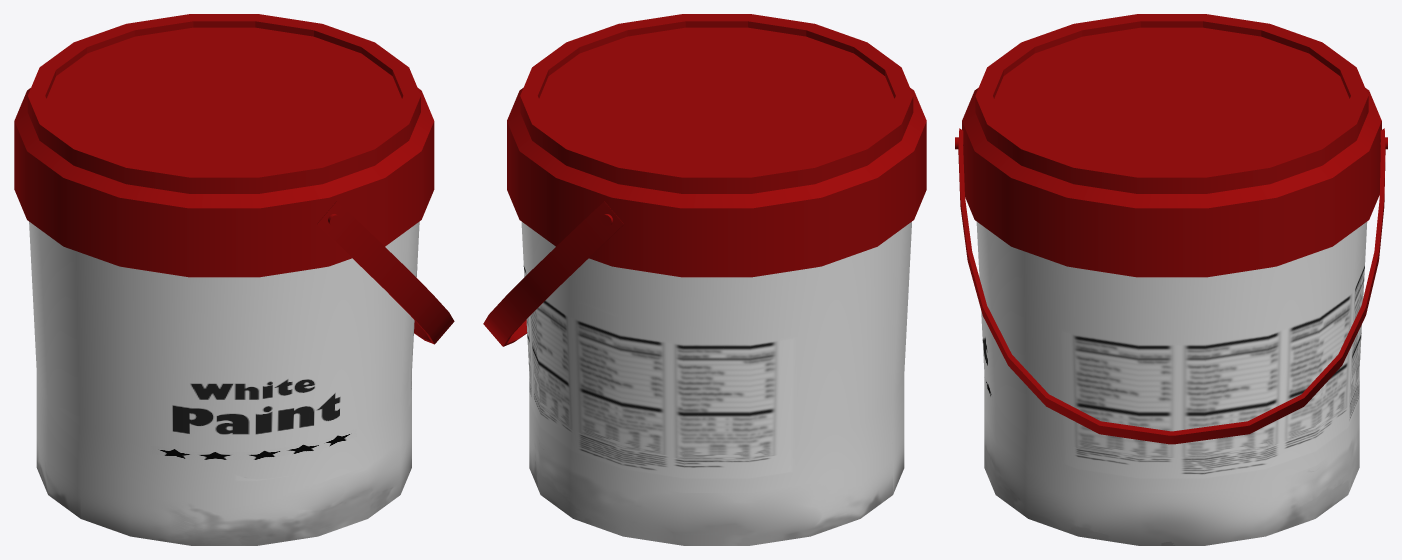
Rendered from Container 1.FBX.
The picture shows the model from 3 angles, left to right: view 1: azimuth 30°, elevation 25°; view 2: azimuth 150°, elevation 25°; view 3: azimuth 270°, elevation 25°; orthographic projection.
Visible parts, largest first — view 1: Container 1; view 2: Container 1; view 3: Container 1.
Boxes of the visible parts, box(x1,y1,x2,y2) form: Container 1: box(14, 14, 454, 545); Container 1: box(483, 14, 926, 545); Container 1: box(955, 14, 1387, 545).
Bounding box in the file's own units: 30.42 × 29.3 × 30.9.
Materials: 1 (1 with a texture image).
